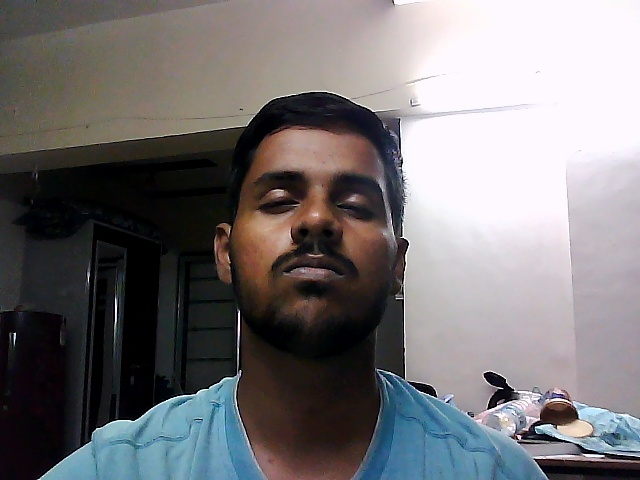drowsy: (196, 82, 426, 371)
